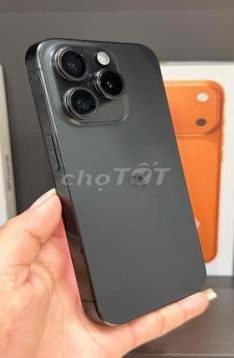scratch: (25, 53, 49, 111)
